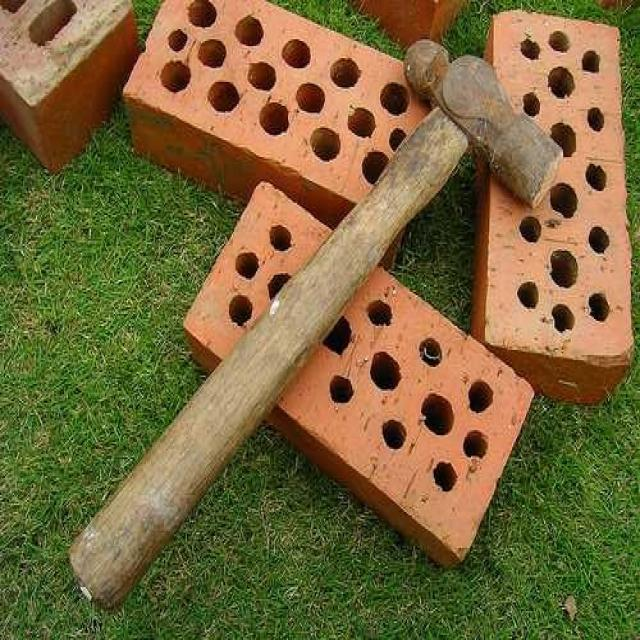hammer: (68, 40, 564, 612)
